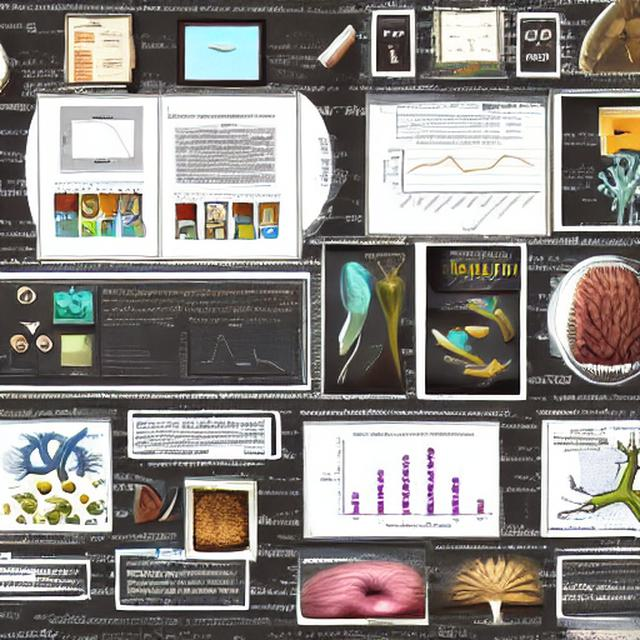Graph: (314, 426, 497, 533), (377, 134, 541, 232), (175, 315, 297, 386), (61, 108, 142, 169), (440, 247, 521, 292)
